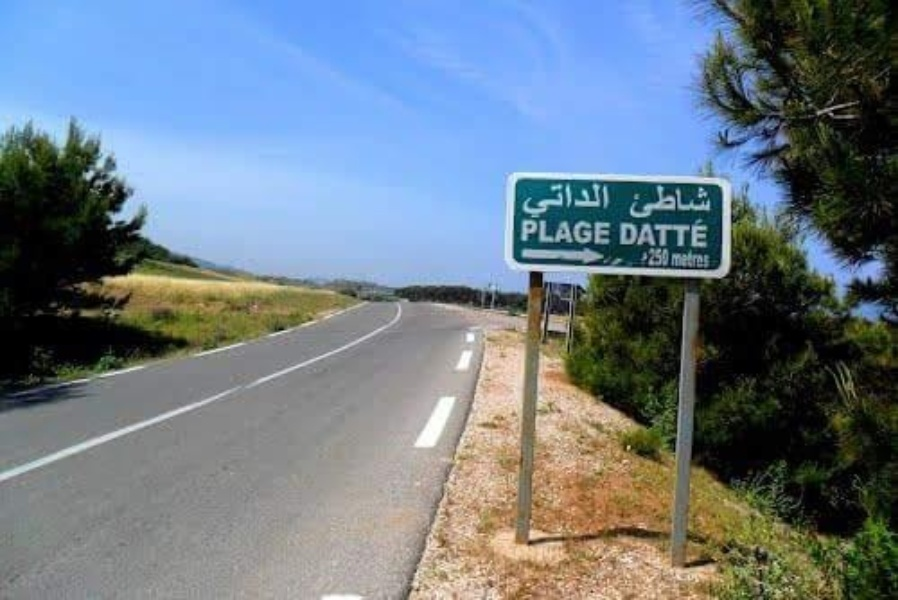text: (593, 182, 609, 218), (529, 182, 544, 218), (545, 182, 560, 218), (561, 182, 576, 218), (577, 182, 592, 218), (641, 182, 656, 218), (657, 182, 672, 218), (673, 182, 688, 218), (689, 182, 704, 218), (625, 218, 640, 248), (641, 218, 656, 248), (657, 218, 672, 248), (673, 218, 688, 248), (689, 218, 704, 248), (529, 220, 544, 245), (545, 220, 560, 245), (561, 220, 576, 245), (577, 220, 592, 245), (593, 220, 608, 245), (631, 182, 640, 218), (673, 250, 688, 270), (689, 250, 704, 270), (657, 247, 672, 266), (705, 182, 712, 218), (523, 182, 528, 218), (521, 220, 528, 245), (705, 250, 712, 270), (649, 247, 656, 266), (620, 218, 624, 248), (705, 218, 708, 248), (609, 220, 611, 245), (670, 250, 672, 270)
